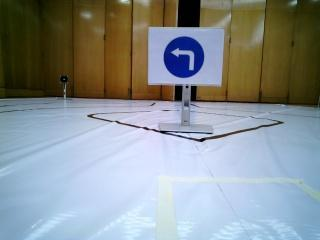left: (153, 30, 213, 83)
